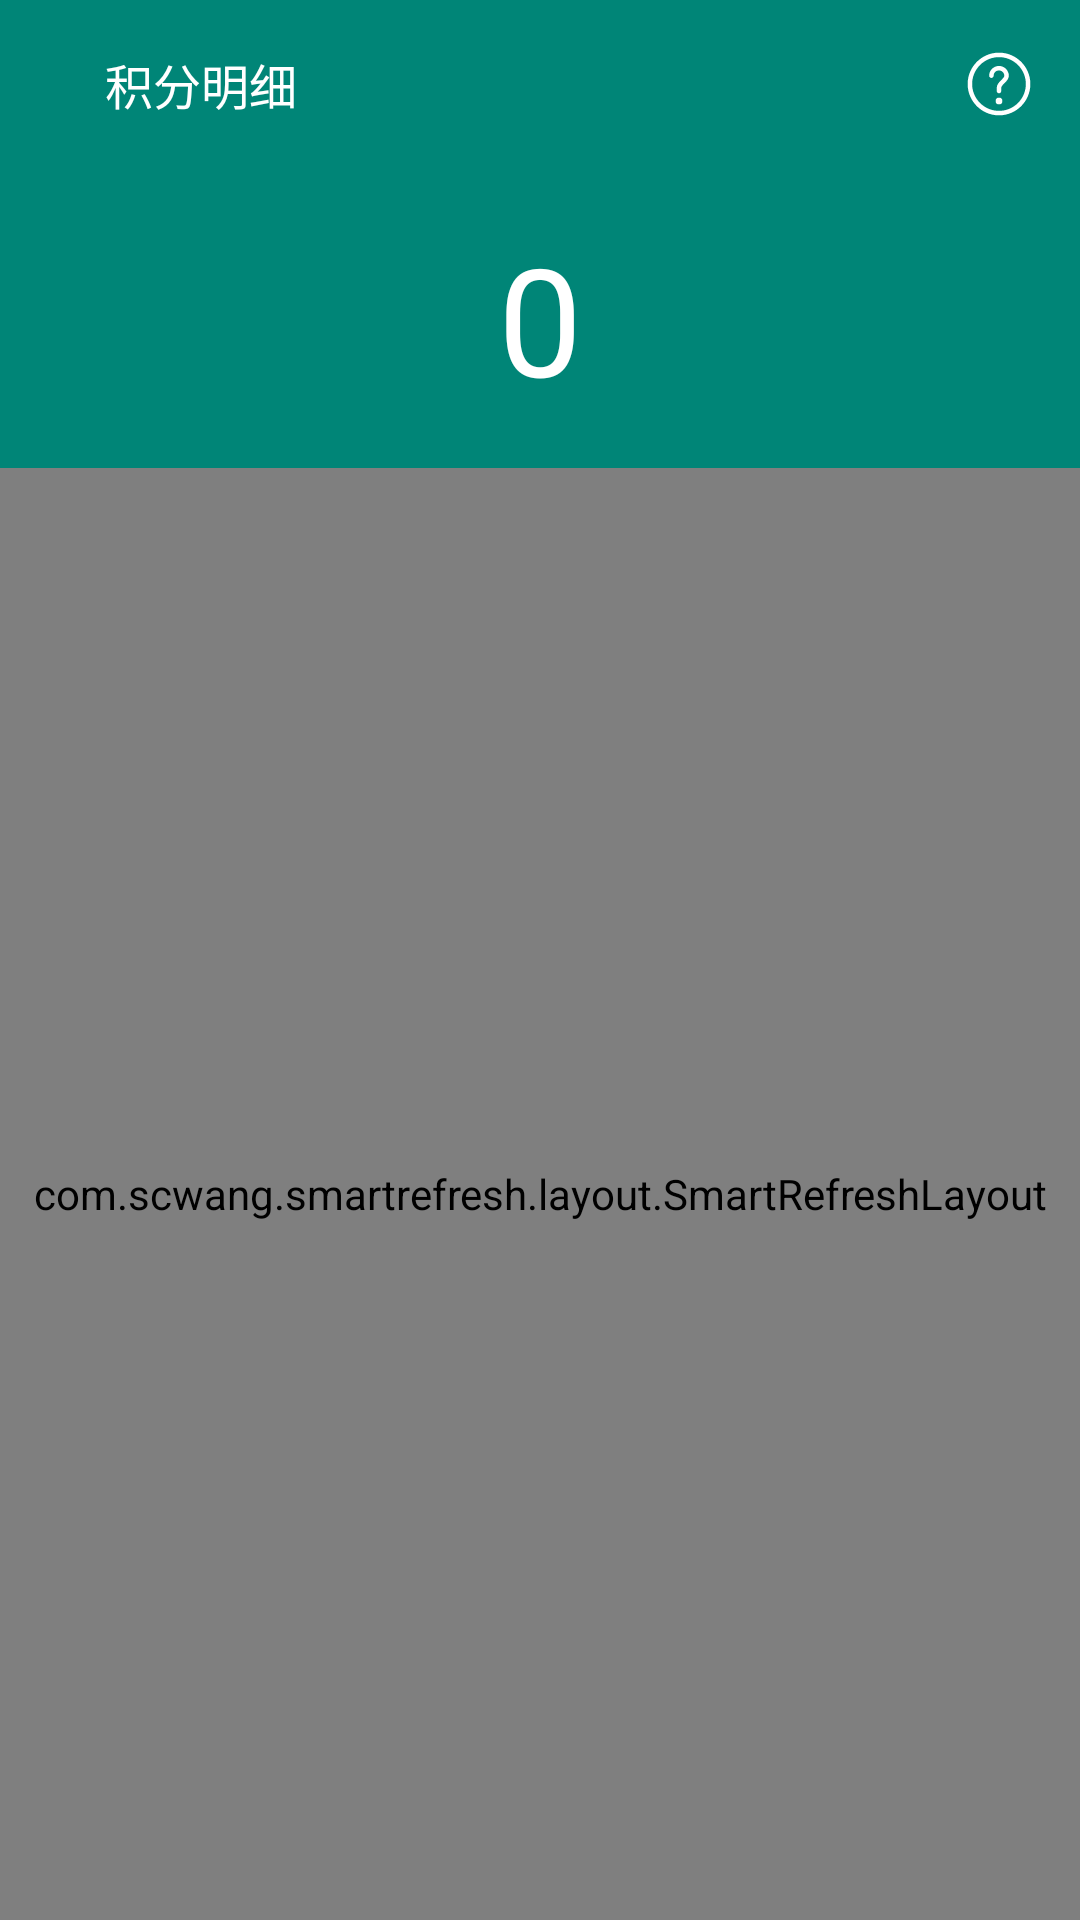

Screen size 1080 x 1920. Icon name, then its box in pixels as bbox=[x1, y1, x2, y2]:
rules: bbox=[967, 52, 1031, 116]
